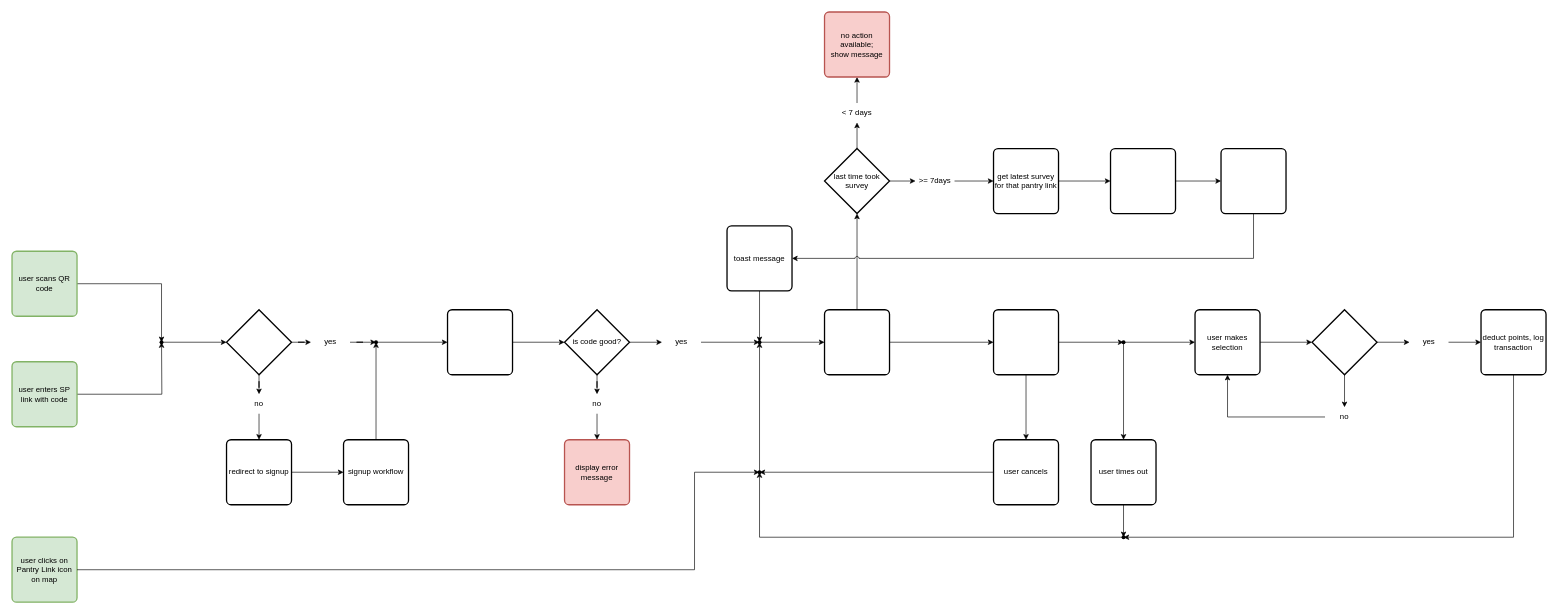
This 1557x614 diagram has some shape labels left out. Here are the shapes that lost their labels. From the top down, the centre of each, then its label:
At point (1143, 181): "display survey".
At point (1253, 181): "send results to server; add appropriate points to user account".
At point (259, 342): "user has account?".
At point (480, 342): "verify pantry link code".
At point (857, 342): "pantry link page".
At point (1026, 342): "send points to pantry link".
At point (1344, 342): "has enough points?".
